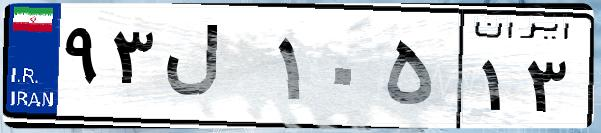0: (330, 28, 385, 110)
1: (270, 28, 330, 110), (475, 38, 525, 113)
3: (525, 38, 570, 115), (110, 28, 158, 98)
5: (385, 28, 445, 110)
9: (57, 26, 110, 100)
ل: (158, 20, 270, 120)
